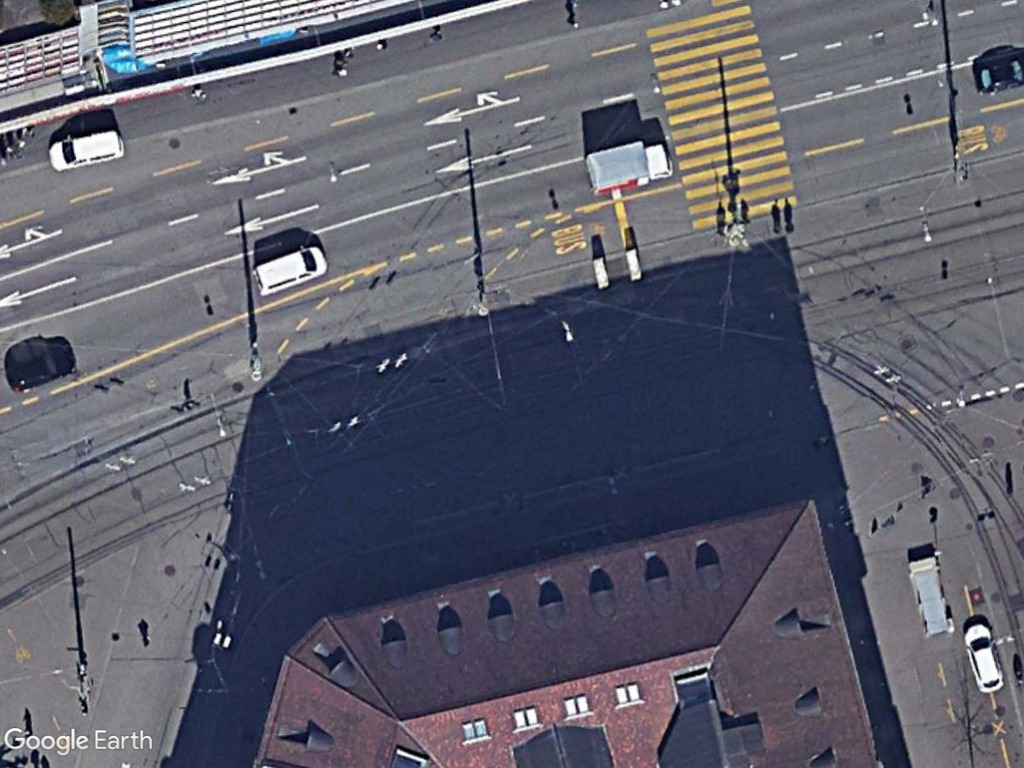car: (963, 623, 1006, 693)
truck: (584, 137, 671, 196)
van: (247, 243, 331, 300), (48, 127, 127, 174)
